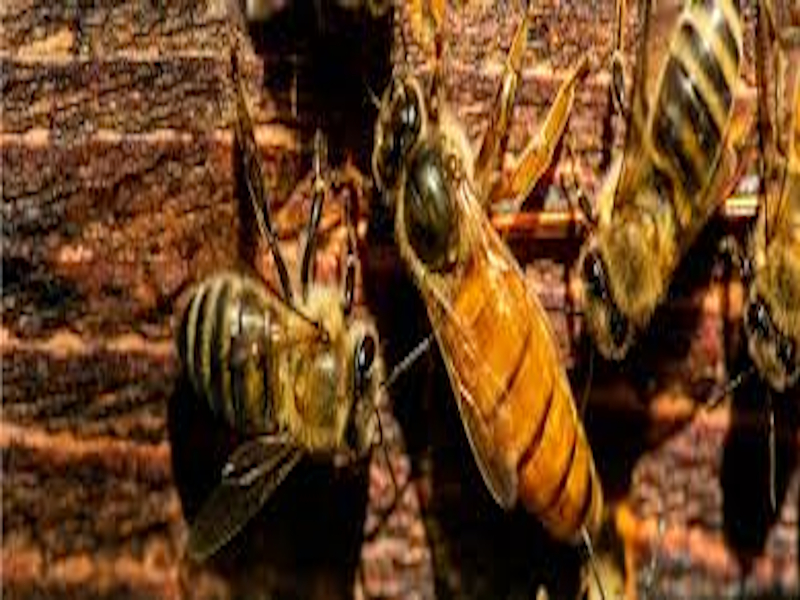abeja: (170, 54, 371, 545), (571, 1, 751, 354)
